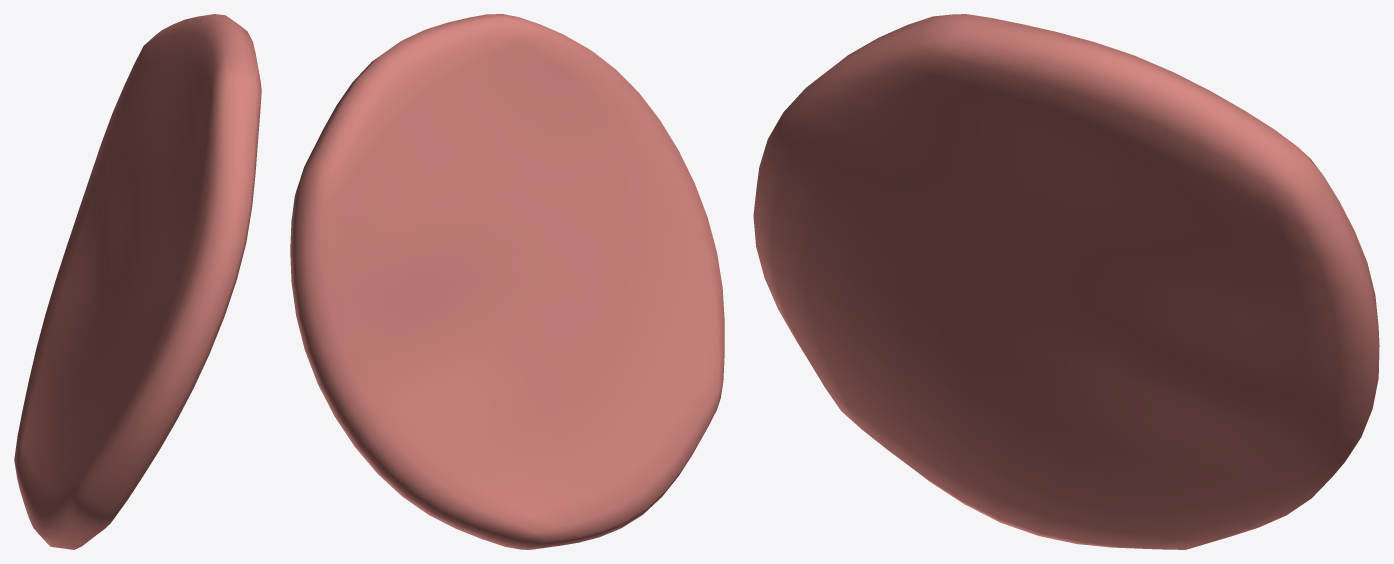
The picture shows the model from 3 angles, left to right: view 1: azimuth 30°, elevation 25°; view 2: azimuth 150°, elevation 25°; view 3: azimuth 270°, elevation 25°; orthographic projection. The views are drawn at different scales.
Parts seen in each view (by area): view 1: ZA_1821979f1d2d040e; view 2: ZA_1821979f1d2d040e; view 3: ZA_1821979f1d2d040e.
Part boxes in pixels (left/top/right/bottom): ZA_1821979f1d2d040e: left=14, top=14, right=261, bottom=549; ZA_1821979f1d2d040e: left=290, top=14, right=724, bottom=549; ZA_1821979f1d2d040e: left=753, top=14, right=1379, bottom=549.
Size of the model in its own units: 0.0125 by 0.0206 by 0.019.
